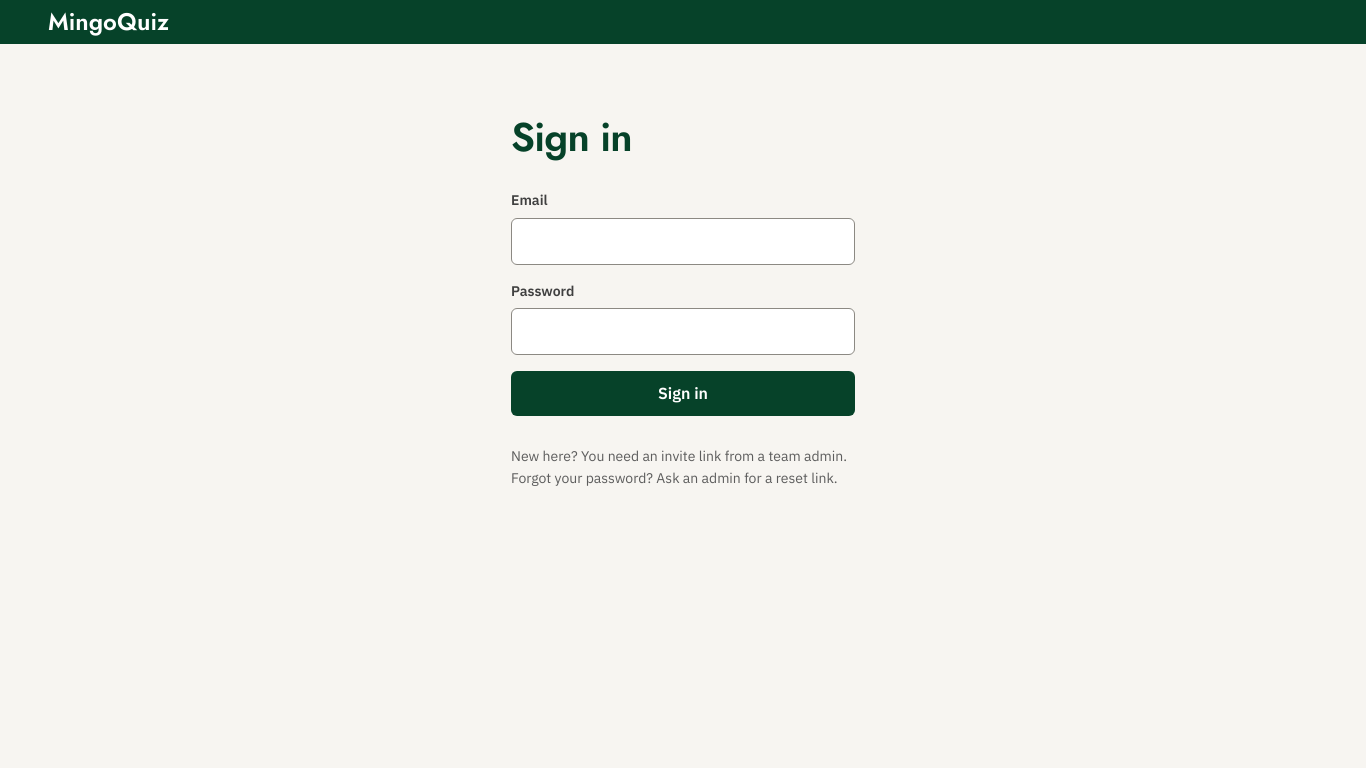
sign in shows the server message, clears it on edit and sends the CSRF header
The image size is (1366, 768).
In the field labelled "Email": (683, 241) [511, 218, 855, 265], type "marta@alu.comillas.edu"
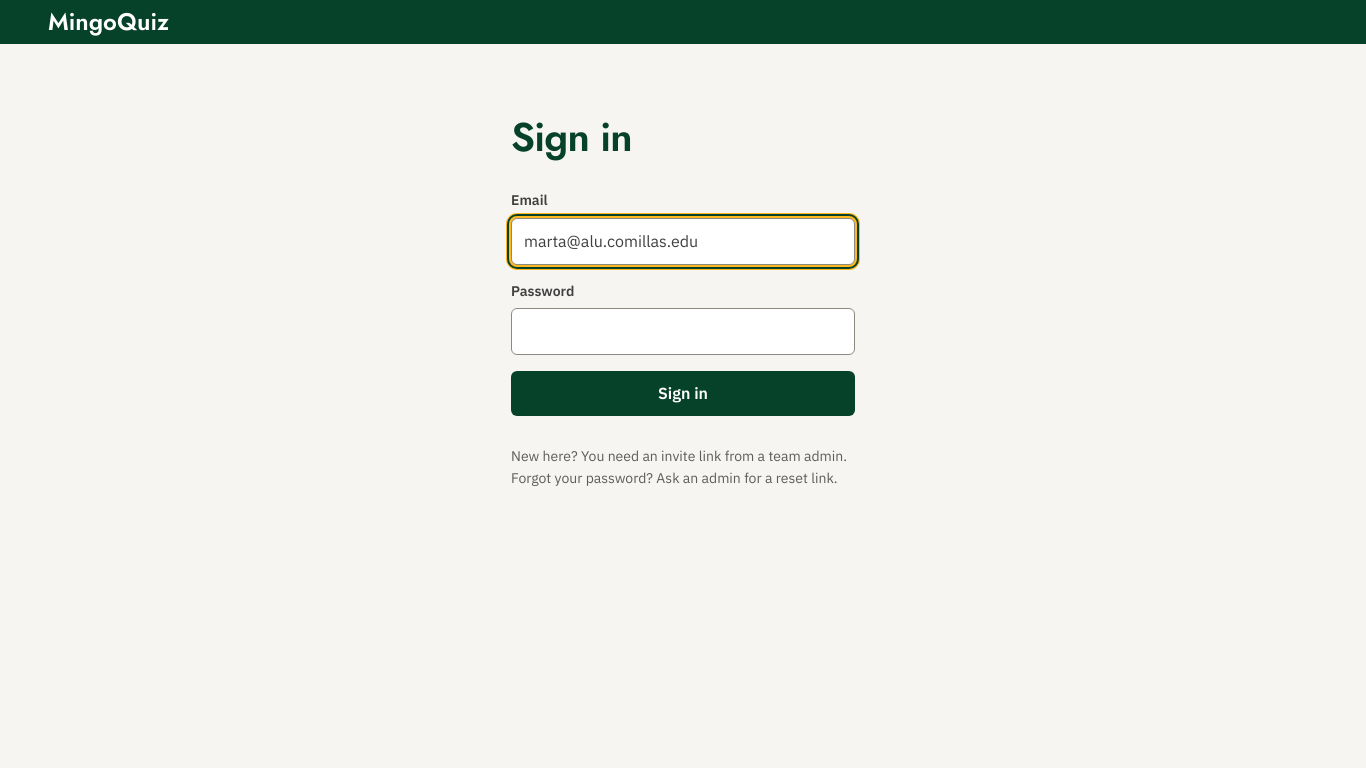
In the password field labelled "Password": (683, 332) [511, 308, 855, 355], type "not the password"
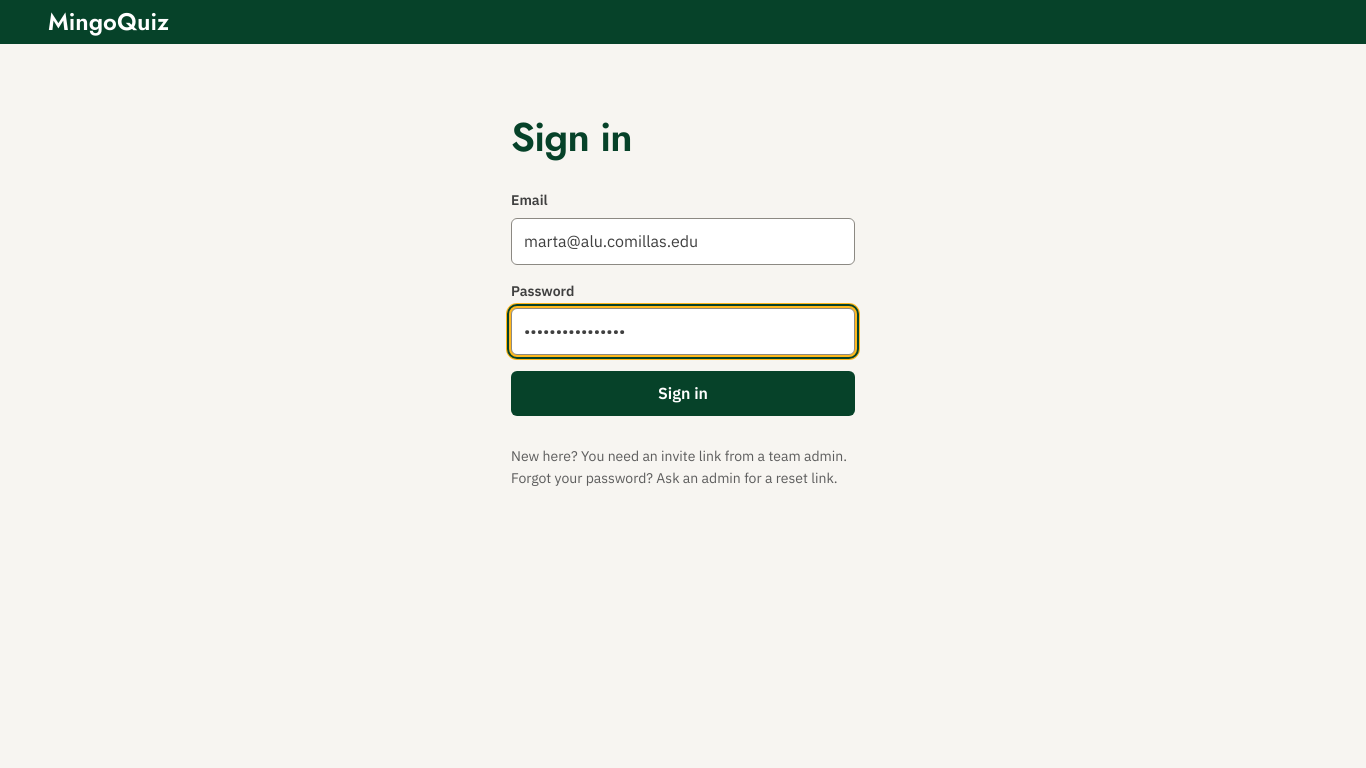
Click the button "Sign in": (683, 394) [511, 371, 855, 416]
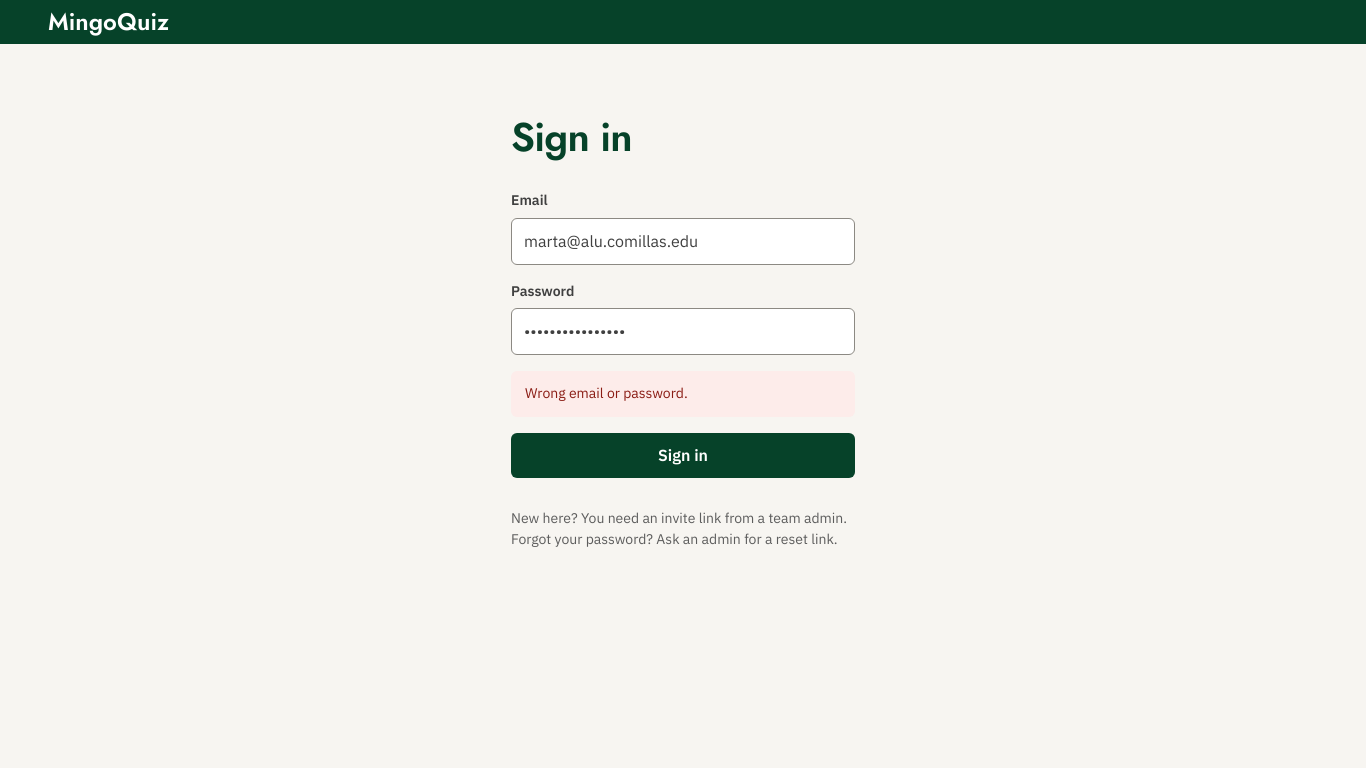
Expected: the message reads "Wrong email or password.", [525, 384, 688, 402]
In the password field labelled "Password": (683, 332) [511, 308, 855, 355], type "x"
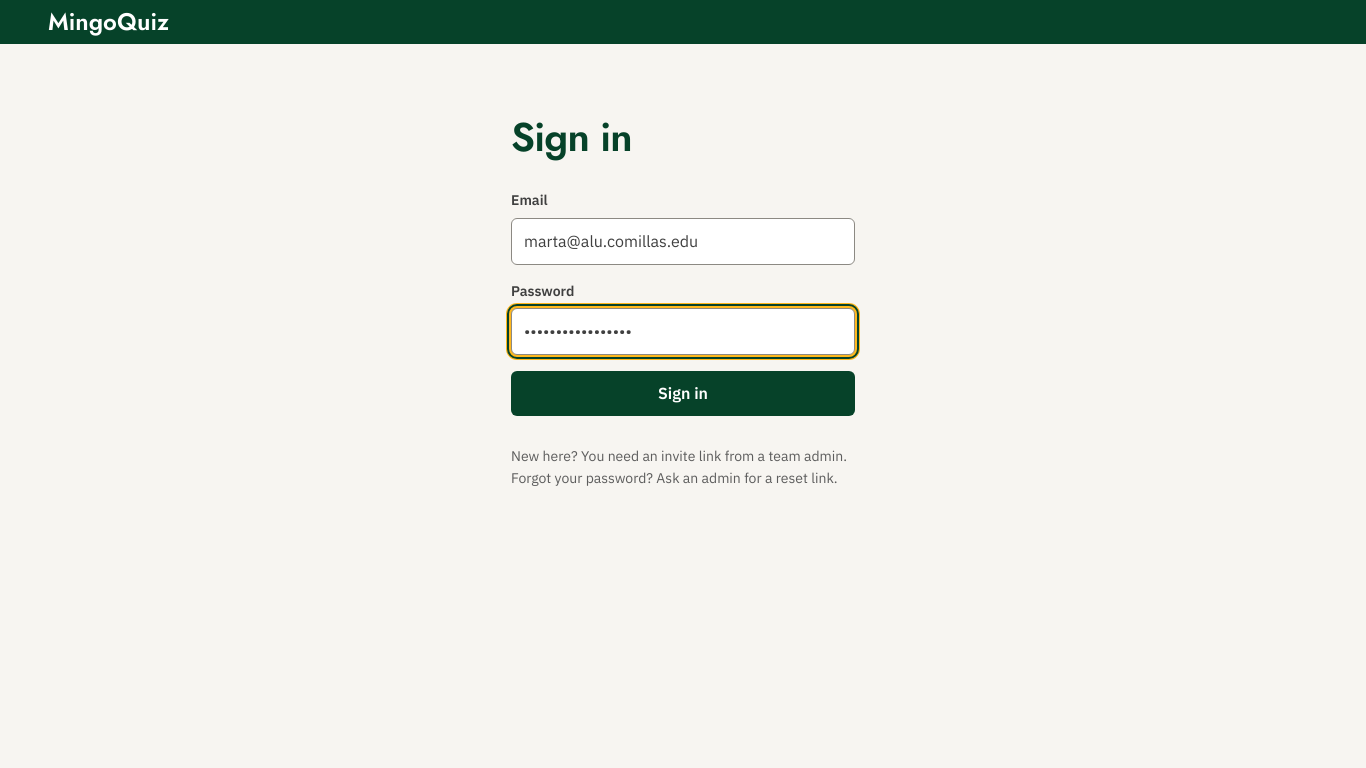
Expected: the message "Wrong email or password." is gone
